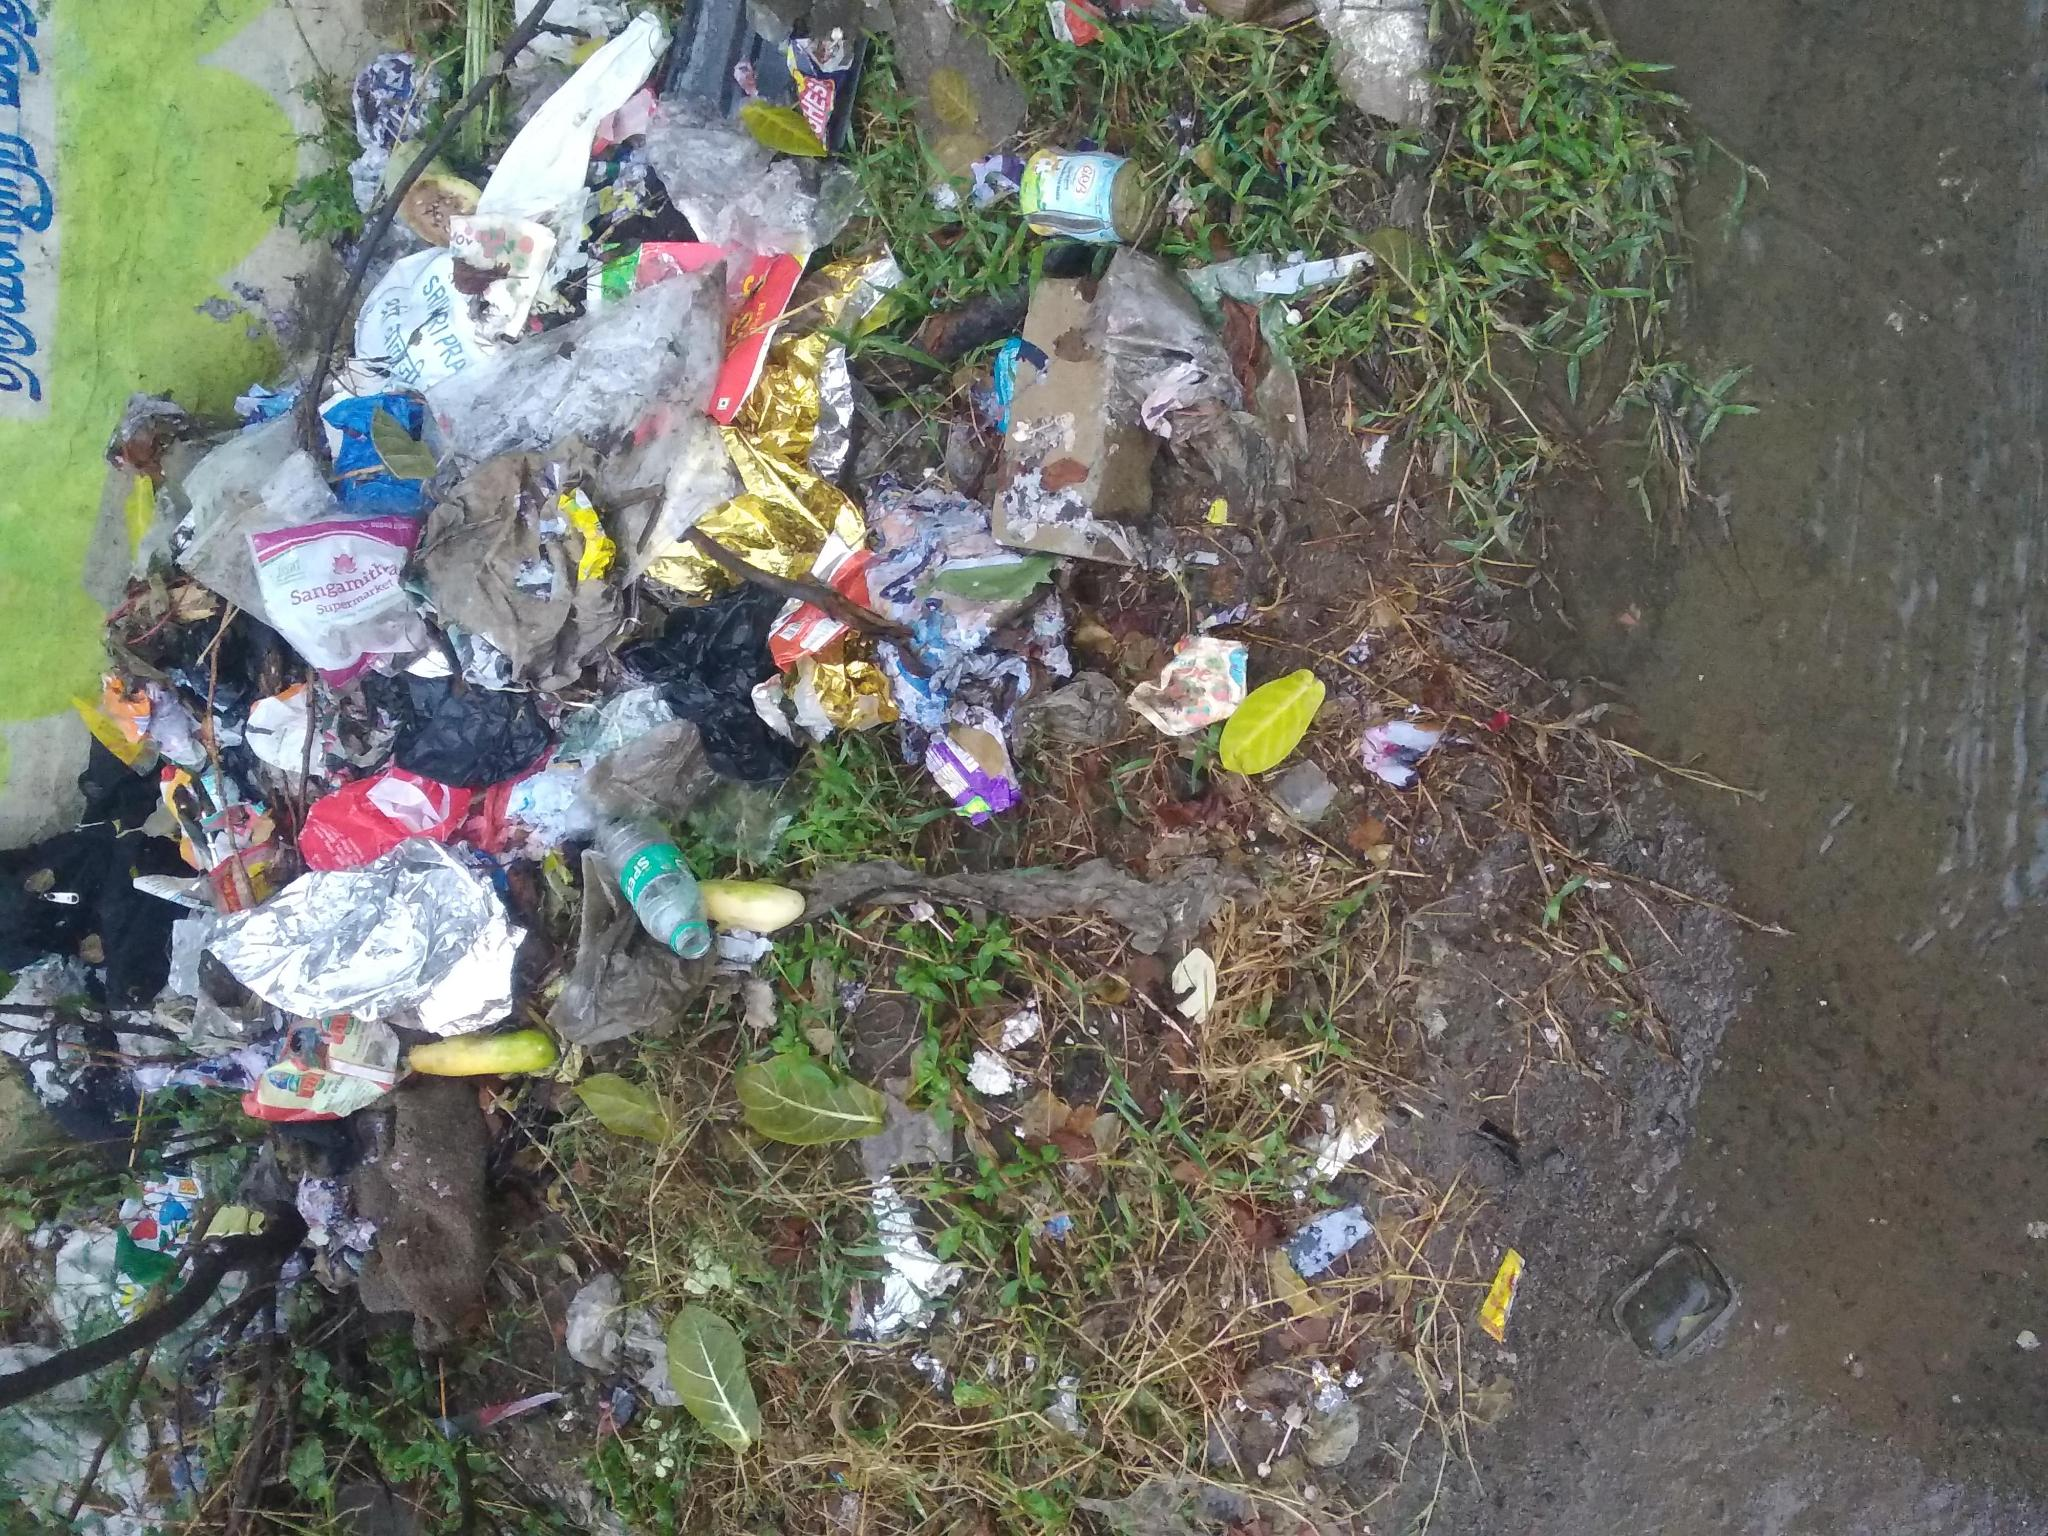bottle: (582, 815, 716, 963)
